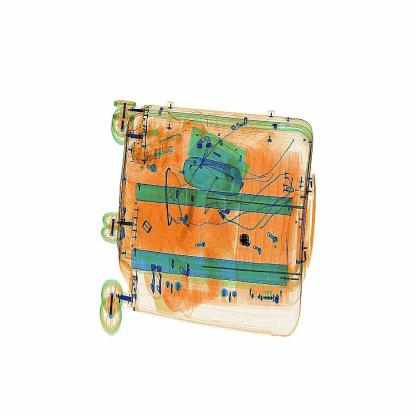scissors: (237, 230, 259, 252)
